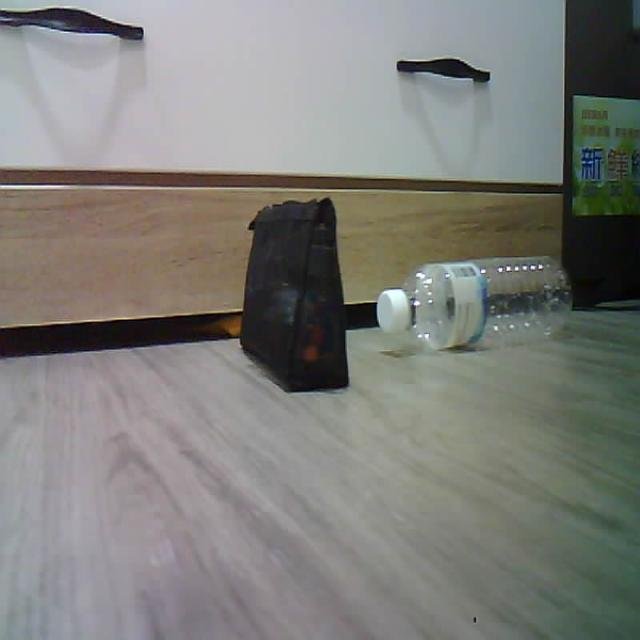bottle: (377, 257, 571, 350)
